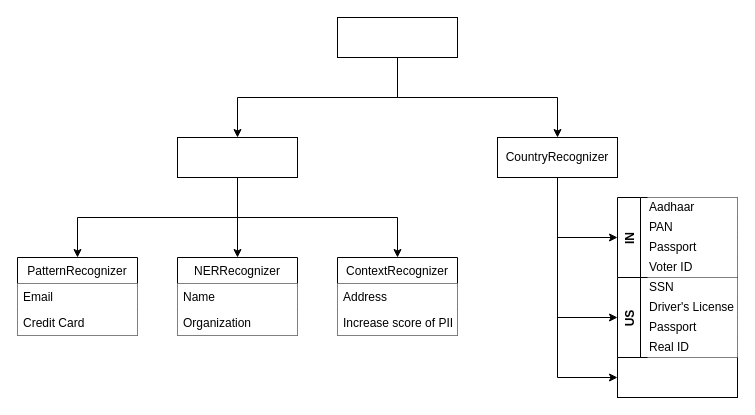
Some shapes in this 755 by 415 pixel diagram are drawn without their labels. Here are the shapes that lost their labels. From the top down, the centre of each, then its label:
At (x=397, y=37): "EntityRecognizer".
At (x=237, y=157): "GenericRecognizer".
At (x=677, y=377): "Others".
